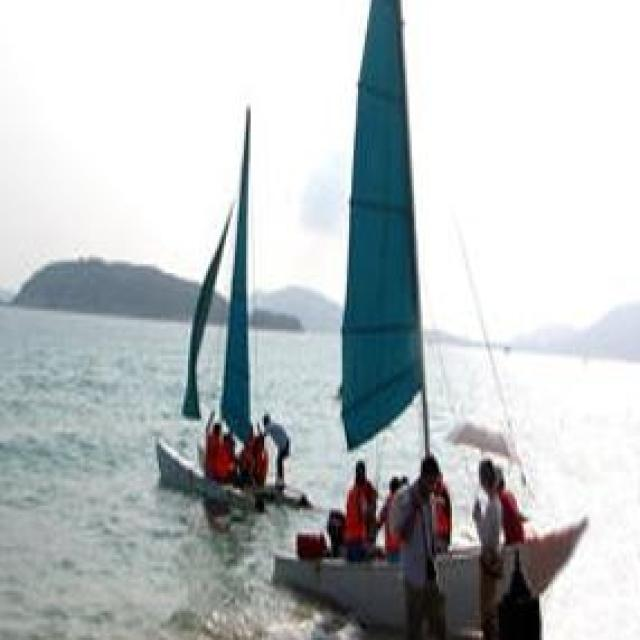sailboat: (269, 0, 587, 624), (148, 102, 303, 509)
